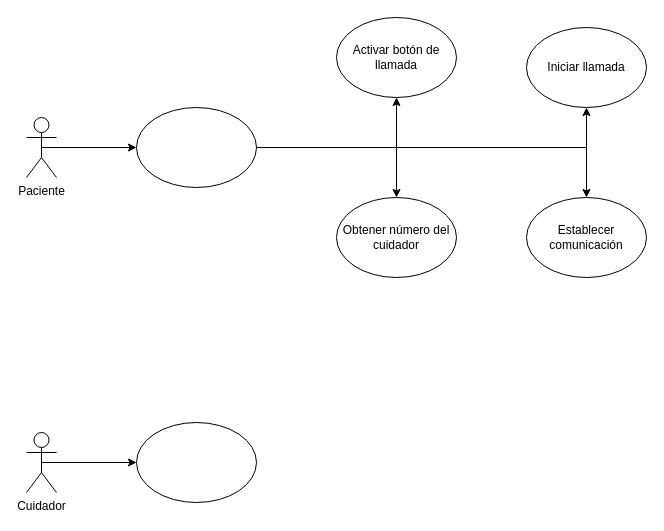
Image size: 664x531. Some labels were removed from this diagram. Each missing label, with the centre of its shape:
Realizar llamada de emergencia: the point at 196,147
Recibir llamado de emergencia: the point at 196,462
